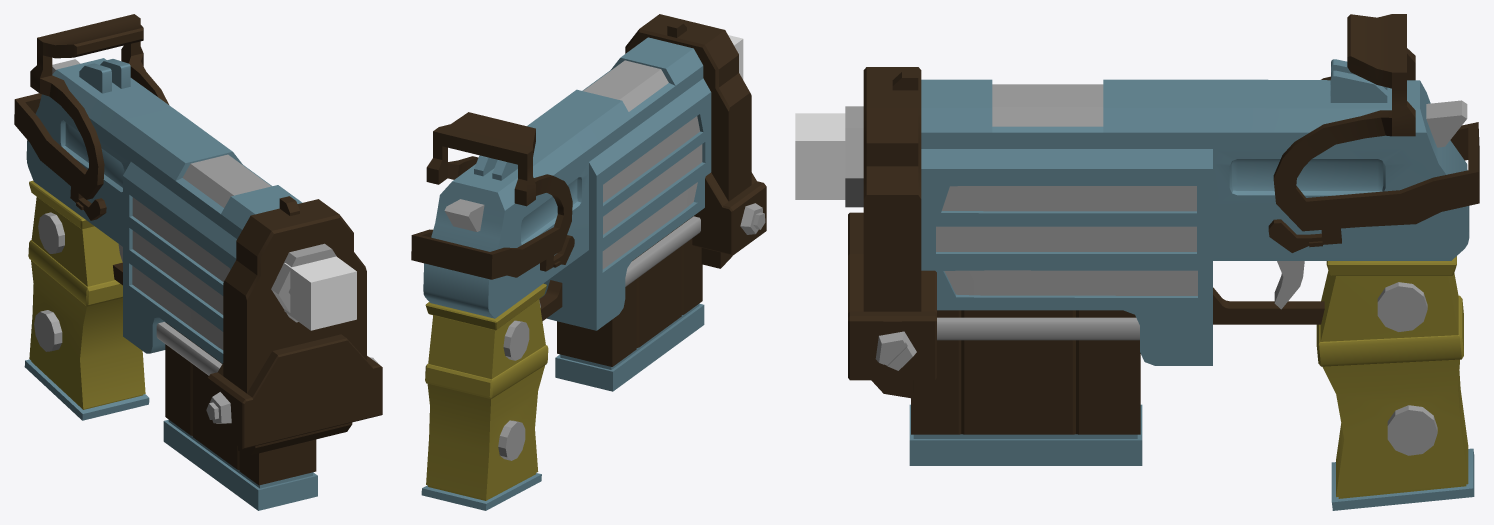
Rendered from gun.fbx.
The picture shows the model from 3 angles, left to right: view 1: azimuth 30°, elevation 25°; view 2: azimuth 150°, elevation 25°; view 3: azimuth 270°, elevation 25°; orthographic projection. The views are drawn at different scales.
Parts seen in each view (by area): view 1: Cube.001, Cube.004, Cube, Cube.008, bullet_spawn, Cylinder, Cube.005, Cylinder.005; view 2: Cube.001, Cube.004, Cube, Cube.008, Cube.005, Cube.009, Cube.002, Cylinder.005; view 3: Cube.001, Cube, Cube.004, Cube.008, Cube.005, bullet_spawn, Cube.002, Cylinder, Cube.009, Cylinder.005, Cube.003.
Part boxes in pixels (bbox=[...]): Cube.001: bbox=[24, 58, 302, 420]; Cube.004: bbox=[207, 196, 382, 455]; Cube: bbox=[163, 322, 317, 510]; Cube.008: bbox=[14, 14, 168, 220]; bullet_spawn: bbox=[284, 256, 356, 330]; Cylinder: bbox=[271, 243, 336, 322]; Cube.005: bbox=[156, 322, 222, 375]; Cylinder.005: bbox=[206, 357, 378, 423]; Cube.001: bbox=[421, 37, 711, 510]; Cube.004: bbox=[625, 14, 766, 268]; Cube: bbox=[555, 217, 704, 391]; Cube.008: bbox=[411, 112, 574, 279]; Cube.005: bbox=[625, 216, 700, 286]; Cube.009: bbox=[444, 199, 484, 231]; Cube.002: bbox=[539, 280, 562, 321]; Cylinder.005: bbox=[740, 203, 765, 234]; Cube.001: bbox=[921, 59, 1474, 510]; Cube: bbox=[909, 310, 1142, 465]; Cube.004: bbox=[848, 67, 936, 398]; Cube.008: bbox=[1268, 14, 1479, 252]; Cube.005: bbox=[937, 317, 1139, 340]; bullet_spawn: bbox=[795, 113, 845, 199]; Cube.002: bbox=[1213, 287, 1324, 324]; Cylinder: bbox=[845, 106, 863, 207]; Cube.009: bbox=[1426, 100, 1467, 147]; Cylinder.005: bbox=[875, 331, 916, 370]; Cube.003: bbox=[1274, 261, 1304, 309].
Bounding box in the file's own units: 23.79 × 51.06 × 69.49.
